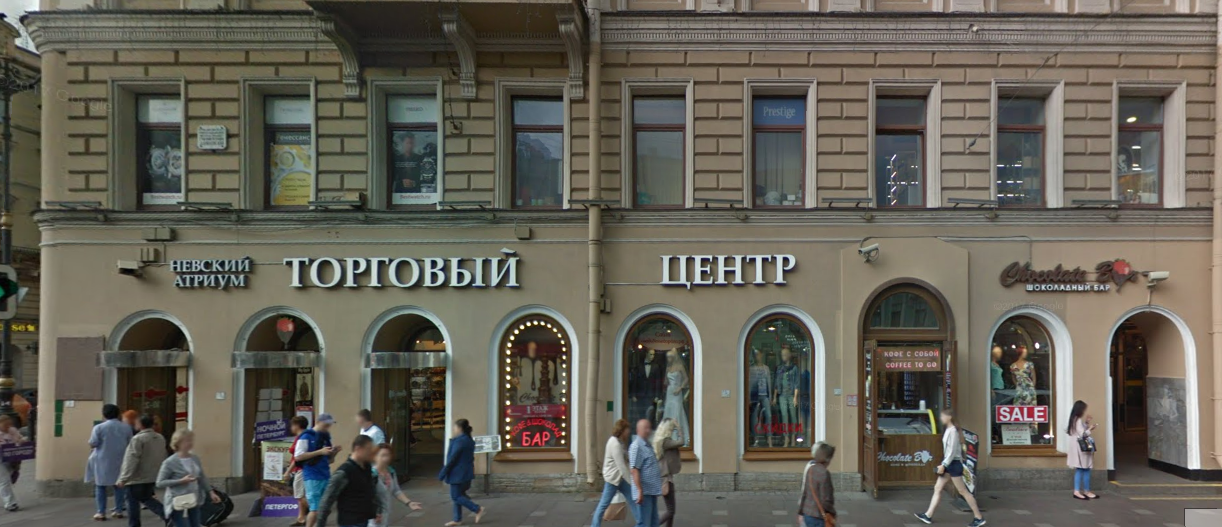arch: (1108, 306, 1192, 478)
signboard: (279, 249, 528, 292), (990, 246, 1146, 297), (653, 246, 800, 290), (166, 251, 266, 290)
window: (500, 316, 571, 451), (742, 318, 813, 453), (990, 313, 1057, 450), (622, 320, 690, 451), (502, 93, 567, 212), (126, 92, 185, 209), (383, 91, 440, 206), (873, 89, 929, 205), (631, 94, 686, 211), (994, 91, 1051, 202), (752, 92, 807, 206), (259, 94, 314, 205), (1115, 94, 1163, 203)
